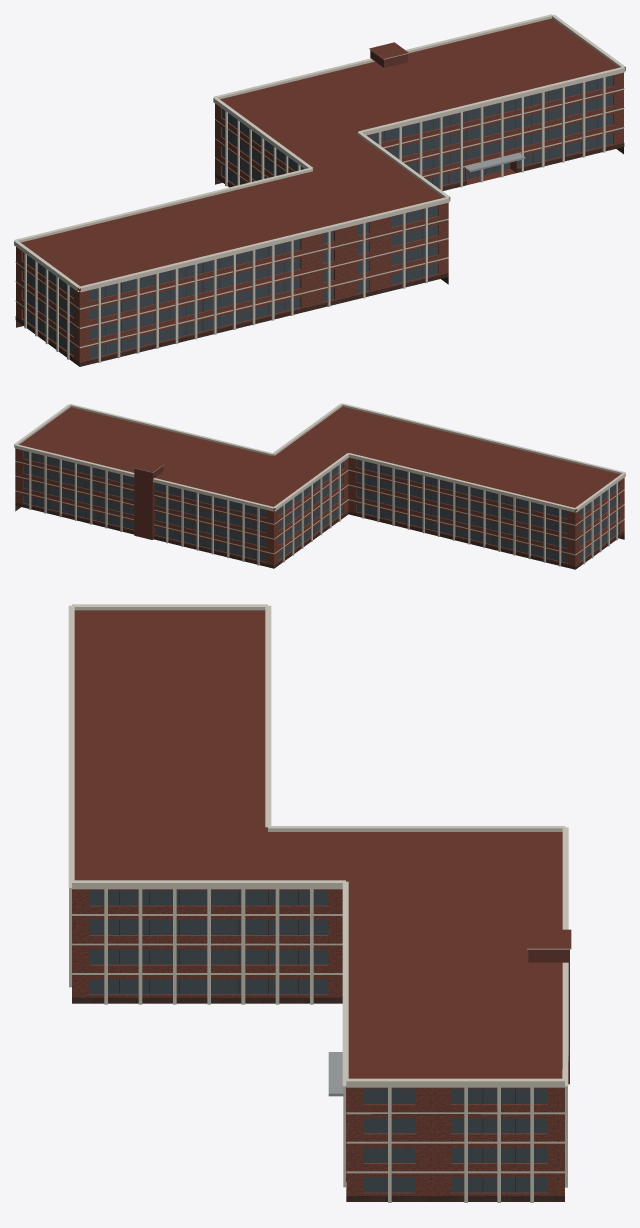
The picture shows the model from 3 angles, top to bottom: view 1: azimuth 30°, elevation 25°; view 2: azimuth 150°, elevation 25°; view 3: azimuth 270°, elevation 25°; orthographic projection. The views are drawn at different scales.
Visible parts, largest first — view 1: indDesign__roof, indDesign__wall, indDesign__glass, indDesign__trim, indDesign__base, indDesign__frame; view 2: indDesign__roof, indDesign__wall, indDesign__glass, indDesign__trim, indDesign__base, indDesign__wall2, indDesign__frame; view 3: indDesign__roof, indDesign__wall, indDesign__trim, indDesign__glass, indDesign__base, indDesign__wall2.
Boxes of the visible parts, bbox=[...] form: indDesign__roof: bbox=[21, 18, 618, 289]; indDesign__wall: bbox=[16, 72, 623, 366]; indDesign__glass: bbox=[23, 75, 613, 358]; indDesign__trim: bbox=[14, 14, 625, 362]; indDesign__base: bbox=[15, 143, 624, 366]; indDesign__frame: bbox=[31, 79, 597, 354]; indDesign__roof: bbox=[19, 406, 620, 510]; indDesign__wall: bbox=[15, 448, 624, 569]; indDesign__glass: bbox=[23, 451, 619, 562]; indDesign__trim: bbox=[14, 403, 625, 566]; indDesign__base: bbox=[15, 502, 624, 569]; indDesign__wall2: bbox=[134, 466, 163, 539]; indDesign__frame: bbox=[35, 454, 599, 559]; indDesign__roof: bbox=[74, 610, 571, 1181]; indDesign__wall: bbox=[72, 889, 564, 1195]; indDesign__trim: bbox=[68, 604, 571, 1202]; indDesign__glass: bbox=[89, 890, 547, 1192]; indDesign__base: bbox=[72, 997, 564, 1201]; indDesign__wall2: bbox=[528, 949, 569, 1084].
Size of the model in its own units: 128 by 18.55 by 57.04.
Materials: 9 (2 with a texture image).
